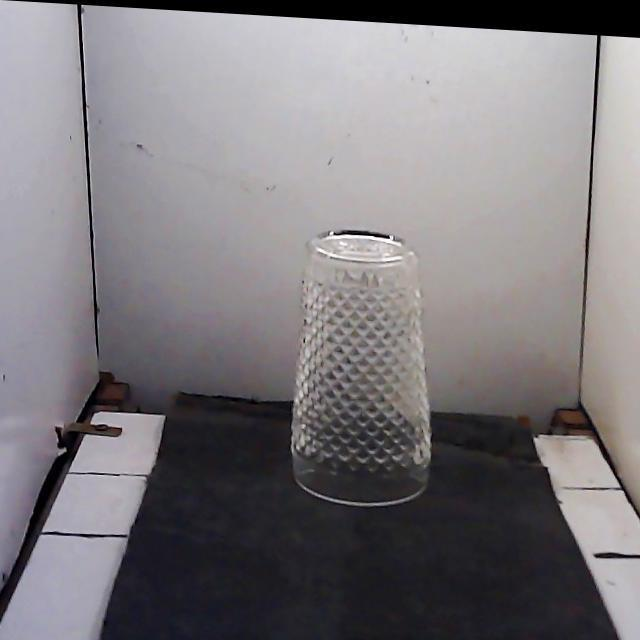vidro: (292, 230, 430, 505)
